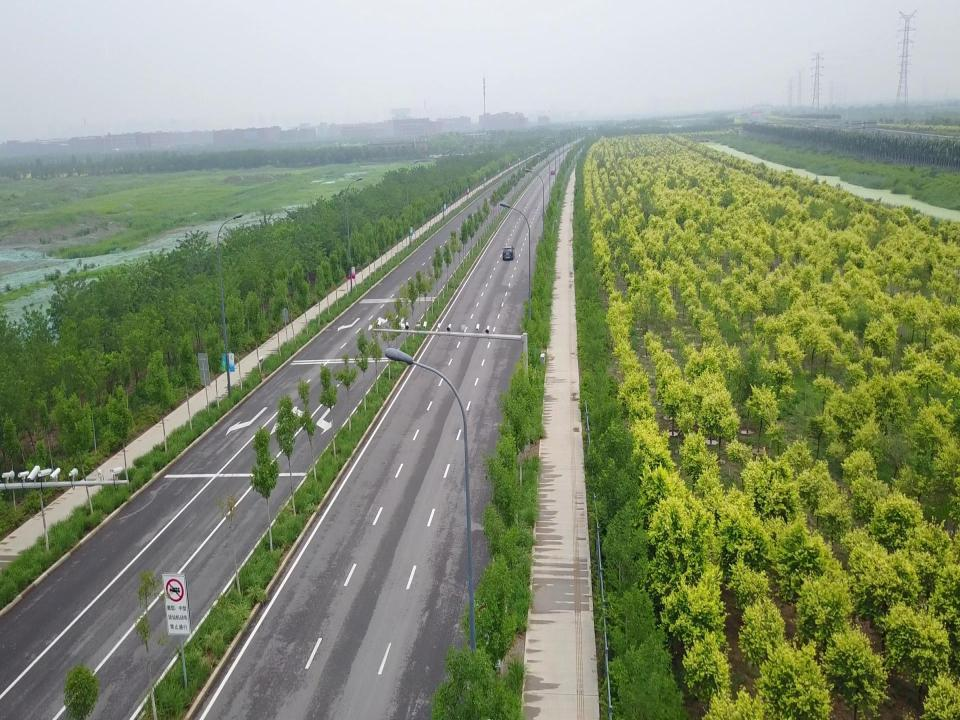car: (551, 169, 555, 175)
van: (503, 245, 515, 260)
